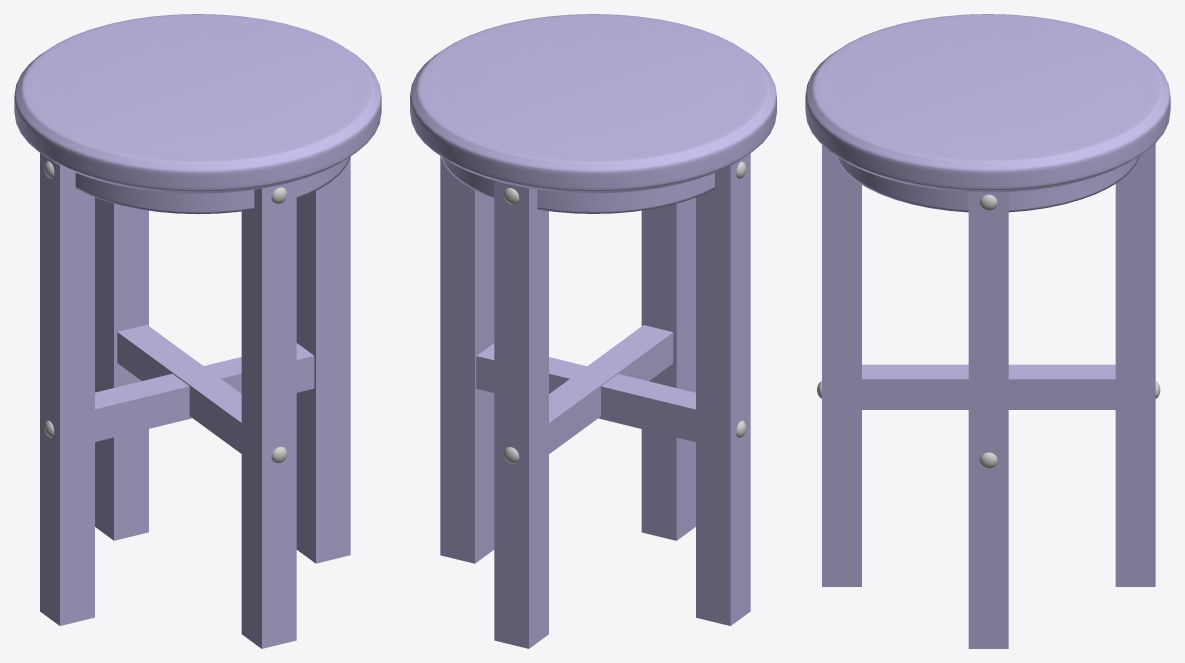
Rendered from Stool.fbx.
3 renders of one model, left to right at view 1: azimuth 30°, elevation 25°; view 2: azimuth 150°, elevation 25°; view 3: azimuth 270°, elevation 25°, orthographic.
Parts seen in each view (by area): view 1: Stool, Sphere; view 2: Stool, Sphere; view 3: Stool, Sphere.
Boxes of the visible parts, x1=… form: Stool: x1=14, y1=14, x2=381, y2=648; Sphere: x1=44, y1=161, x2=287, y2=463; Stool: x1=410, y1=14, x2=776, y2=648; Sphere: x1=503, y1=161, x2=746, y2=463; Stool: x1=805, y1=14, x2=1170, y2=648; Sphere: x1=817, y1=194, x2=1160, y2=468.
Size of the model in its own units: 51.34 by 76.83 by 51.34.
